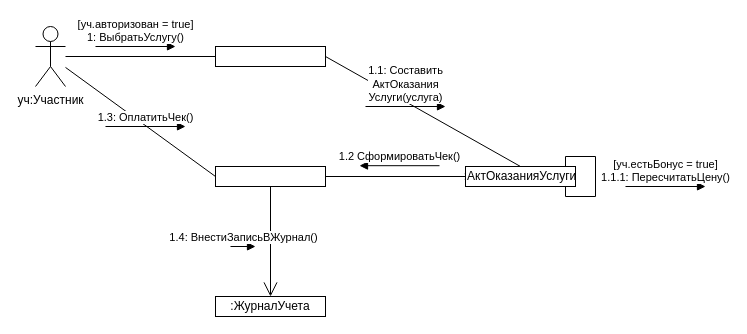
Image size: 747x334. Some labels were removed from this diagram. Each missing label, with the centre of its shape:
":ПлатежнаяСистема" goes at point 270,176.
":СписокУслуг" goes at point 270,56.
